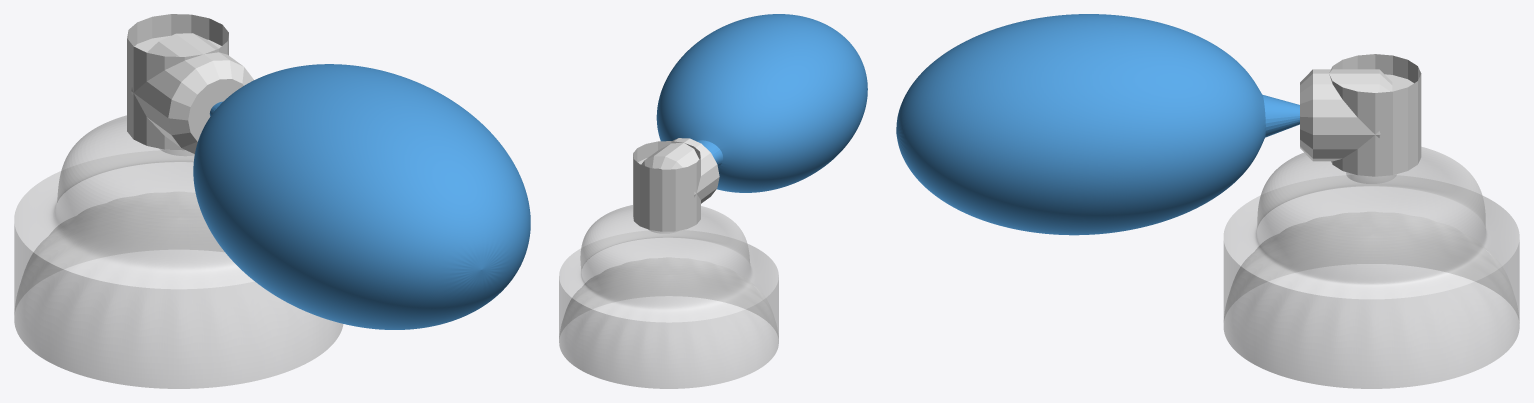
File: maskerplusanimasi.fbx
3 views of the same model, side by side, from view 1: azimuth 30°, elevation 25°; view 2: azimuth 150°, elevation 25°; view 3: azimuth 270°, elevation 25° (orthographic). The views are drawn at different scales.
Parts seen in each view (by area): view 1: Sphere, Cylinder, Cylinder.001, Cylinder.002; view 2: Cylinder, Sphere, Cylinder.002, Cylinder.001; view 3: Sphere, Cylinder, Cylinder.002, Cylinder.001.
Part boxes in pixels (x1=…): Sphere: x1=193, y1=64, x2=530, y2=329; Cylinder: x1=14, y1=115, x2=343, y2=388; Cylinder.001: x1=131, y1=33, x2=253, y2=153; Cylinder.002: x1=127, y1=14, x2=228, y2=150; Cylinder: x1=559, y1=205, x2=778, y2=388; Sphere: x1=656, y1=14, x2=867, y2=192; Cylinder.002: x1=633, y1=141, x2=700, y2=231; Cylinder.001: x1=641, y1=138, x2=719, y2=203; Sphere: x1=896, y1=14, x2=1299, y2=235; Cylinder: x1=1223, y1=147, x2=1519, y2=388; Cylinder.002: x1=1329, y1=54, x2=1421, y2=176; Cylinder.001: x1=1300, y1=69, x2=1392, y2=161.
Bounding box in the file's own units: 63.11 × 70.6 × 130.
